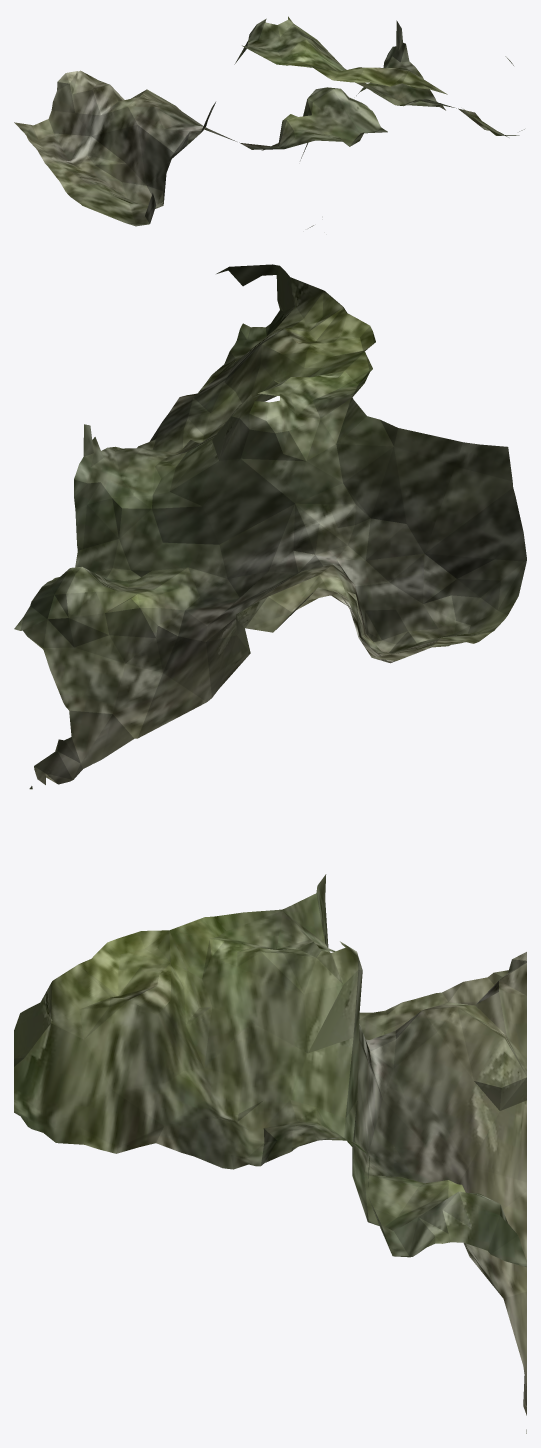
3 renders of one model, top to bottom at view 1: azimuth 30°, elevation 25°; view 2: azimuth 150°, elevation 25°; view 3: azimuth 270°, elevation 25°, orthographic. The views are drawn at different scales.
Size of the model in its own units: 2.95 by 2.59 by 2.95.
3 materials, 3 textured.
